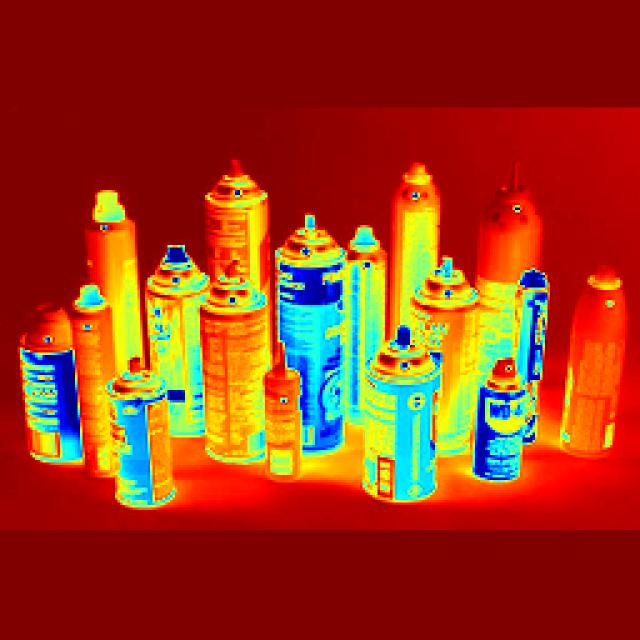Aerosol Cans: (202, 172, 284, 465), (498, 175, 554, 492), (366, 329, 456, 516), (573, 273, 639, 463), (105, 364, 180, 520), (398, 172, 448, 336)
